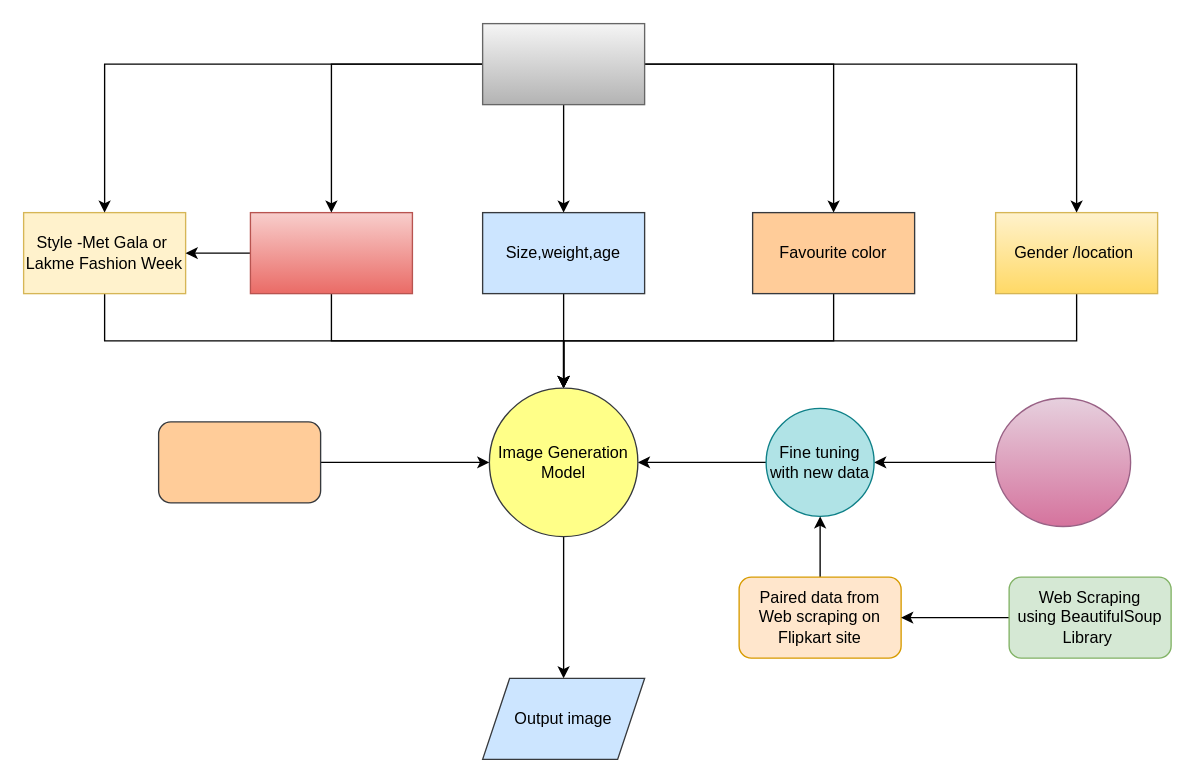
Some shapes in this 1195 by 783 pixel diagram are drawn without their labels. Here are the shapes that lost their labels. From the top down, the box of each, then its label:
(481, 22, 645, 105): Personalized data
(249, 211, 412, 294): Previous average price
(157, 421, 321, 503): User input
(994, 397, 1131, 526): Pre -Trained model based on Stable diffusion
